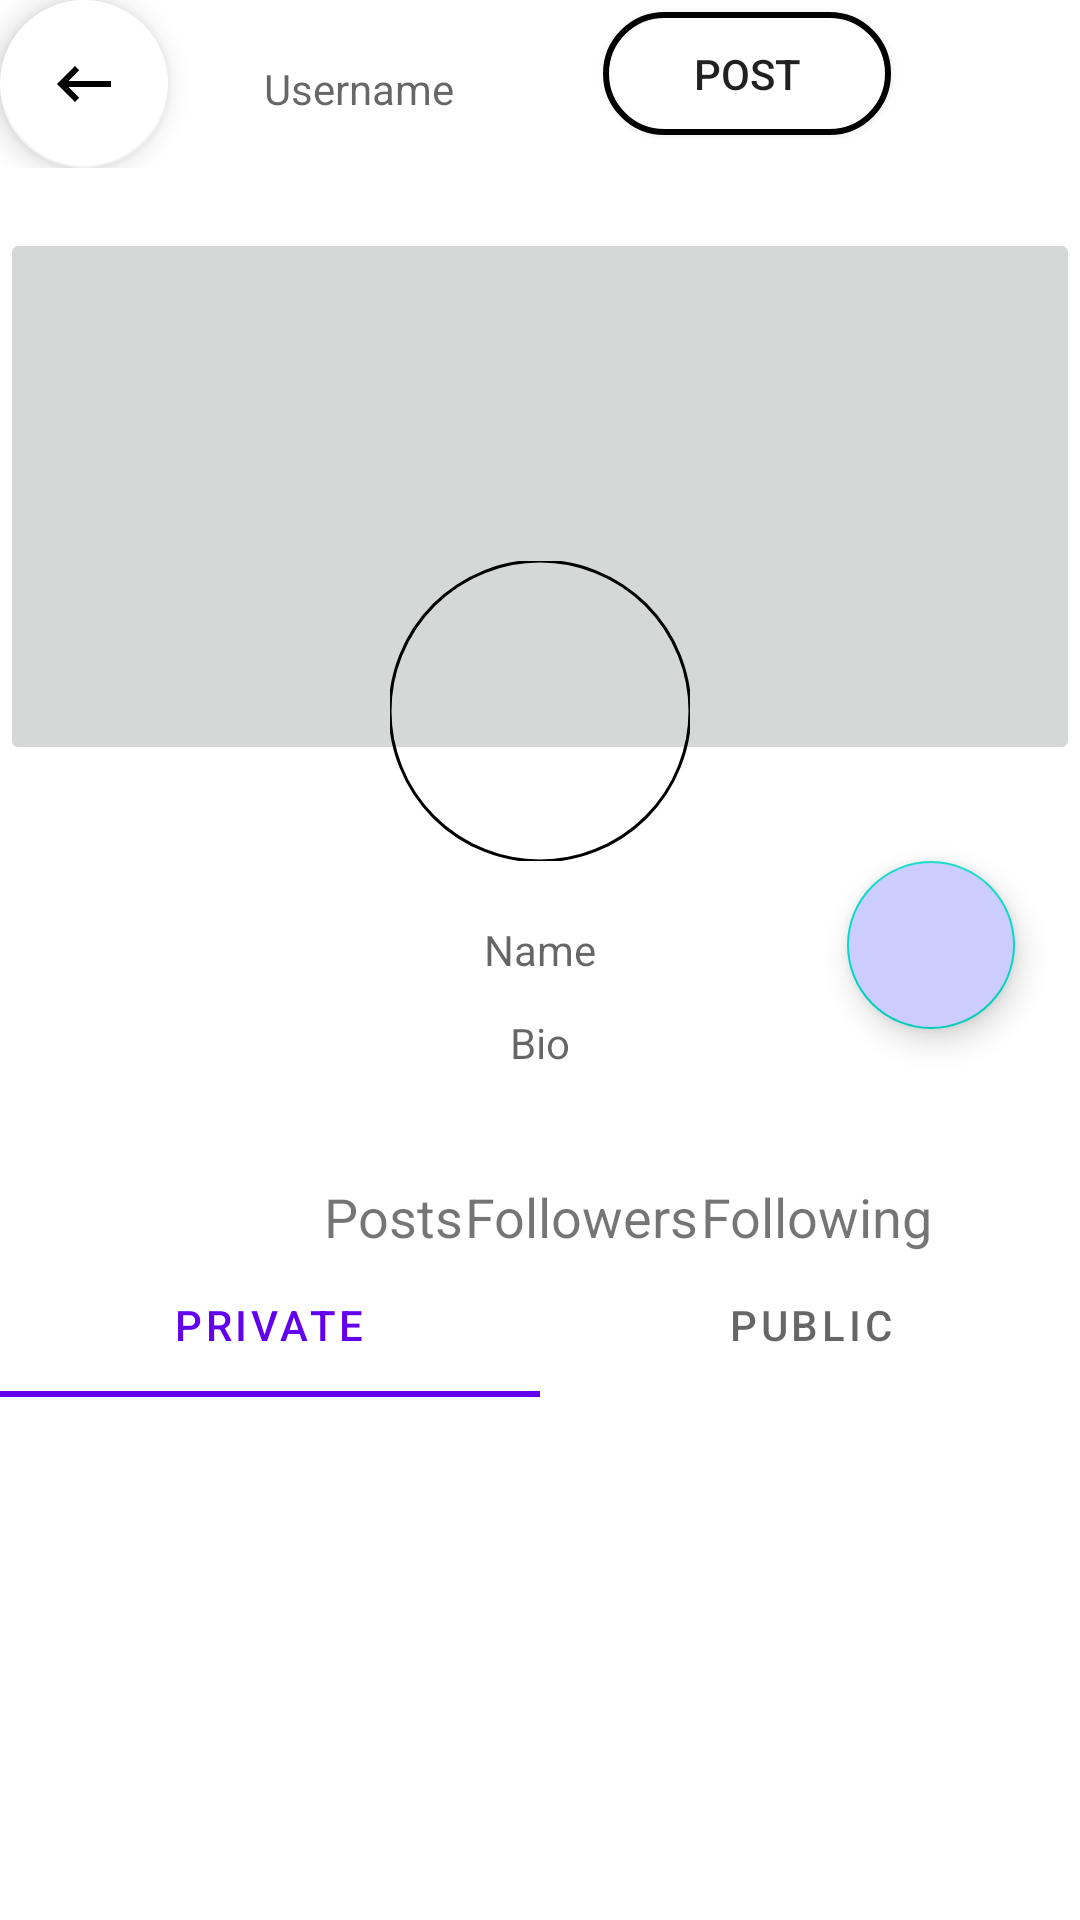

Named icons in this screenshot (1080px×1920px) and their bounding boxes, [left=x1, top=y1, right=x2, bottom=y2]:
keyboard backspace: [left=0, top=7, right=111, bottom=168]
